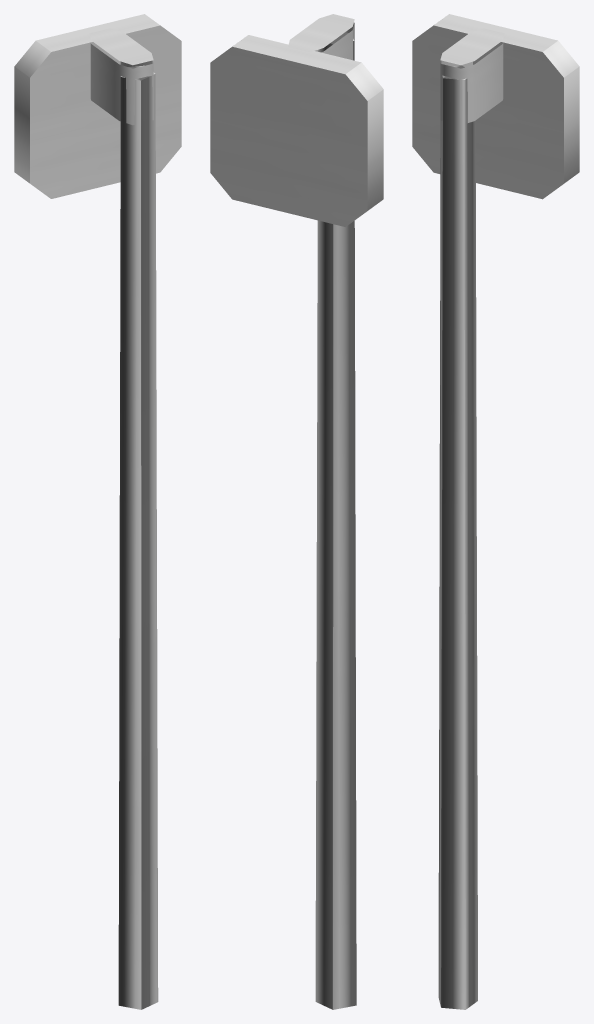
Rendered from tool_hoe.obj.
3 renders of one model, left to right at view 1: azimuth 30°, elevation 25°; view 2: azimuth 150°, elevation 25°; view 3: azimuth 330°, elevation 25°, orthographic. The views are drawn at different scales.
Parts seen in each view (by area): view 1: source_component_00, source_component_01, source_component_03, source_component_02; view 2: source_component_00, source_component_01, source_component_02, source_component_03; view 3: source_component_00, source_component_01, source_component_03, source_component_02.
Part boxes in pixels (x1,y1,x2,y2): source_component_00: (118, 65, 158, 1009); source_component_01: (14, 14, 181, 198); source_component_03: (90, 43, 153, 125); source_component_02: (89, 28, 153, 65); source_component_00: (315, 32, 356, 1009); source_component_01: (210, 35, 383, 226); source_component_02: (288, 14, 354, 52); source_component_03: (315, 22, 354, 60); source_component_00: (438, 65, 477, 1009); source_component_01: (412, 14, 579, 199); source_component_03: (440, 43, 503, 125); source_component_02: (440, 28, 504, 65).
Size of the model in its own units: 0.14 by 0.833 by 0.0912.
